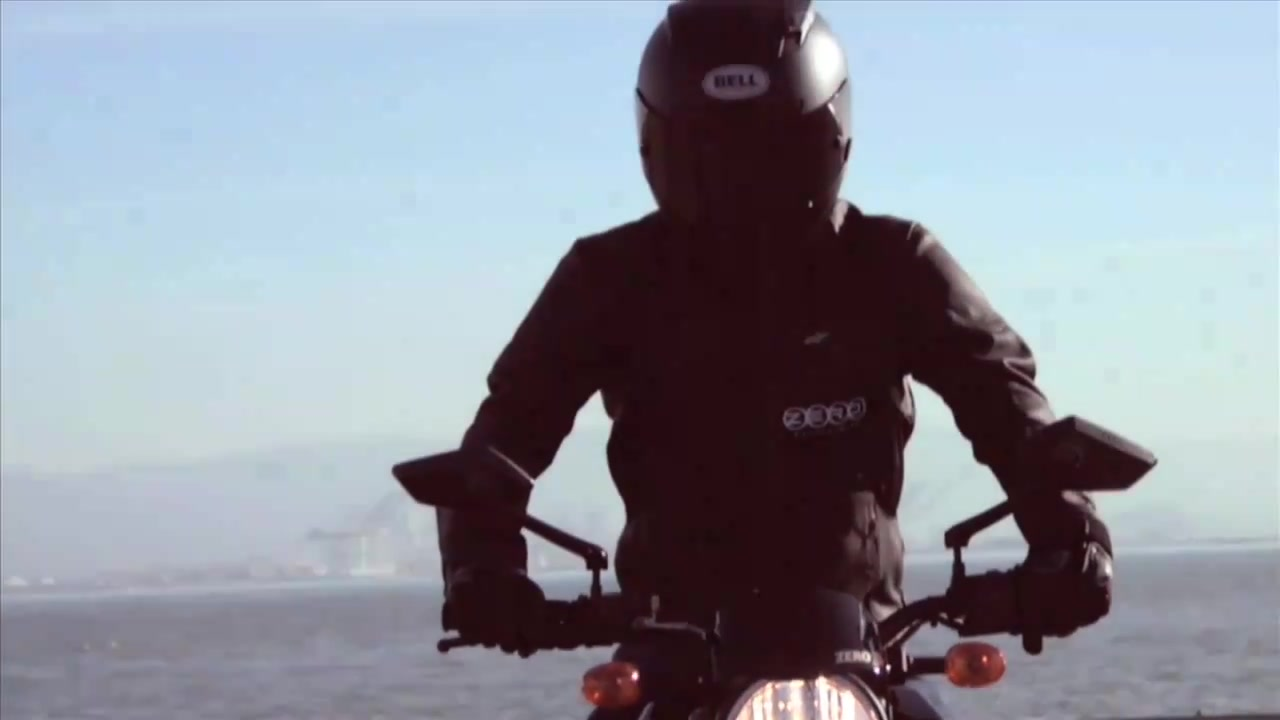motorbike: (389, 416, 1164, 720)
